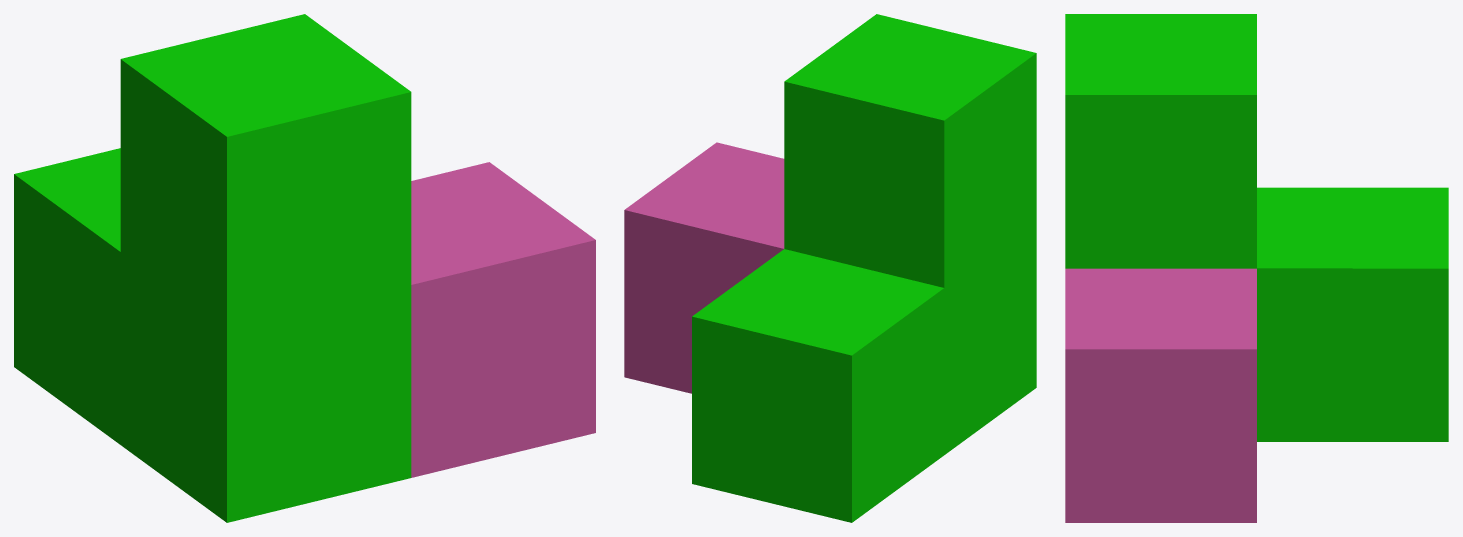
The picture shows the model from 3 angles, left to right: view 1: azimuth 30°, elevation 25°; view 2: azimuth 150°, elevation 25°; view 3: azimuth 270°, elevation 25°; orthographic projection. The views are drawn at different scales.
Visible parts, largest first — view 1: Cube_002; view 2: Cube_002; view 3: Cube_002.
Boxes of the visible parts, x1,y1,x2,y2 form: Cube_002: (14, 14, 595, 522); Cube_002: (624, 14, 1036, 522); Cube_002: (1065, 14, 1448, 522).
Size of the model in its own units: 2 by 2 by 2.
